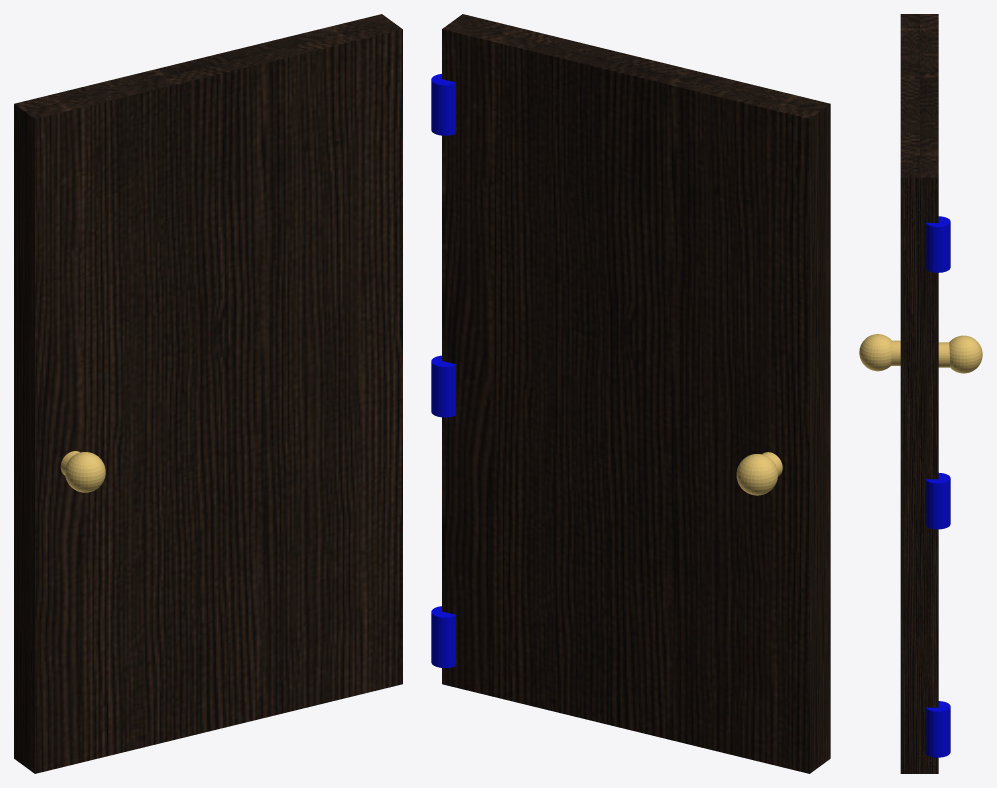
Rendered from InteriorDoor.fbx.
The picture shows the model from 3 angles, left to right: view 1: azimuth 30°, elevation 25°; view 2: azimuth 150°, elevation 25°; view 3: azimuth 270°, elevation 25°; orthographic projection. The views are drawn at different scales.
Visible parts, largest first — view 1: Door; view 2: Door; view 3: Door.
Part boxes in pixels (x1,y1,x2,y2): Door: [14, 14, 402, 773]; Door: [431, 14, 830, 773]; Door: [859, 14, 982, 773].
Size of the model in its own units: 156 by 260 by 48.7.
